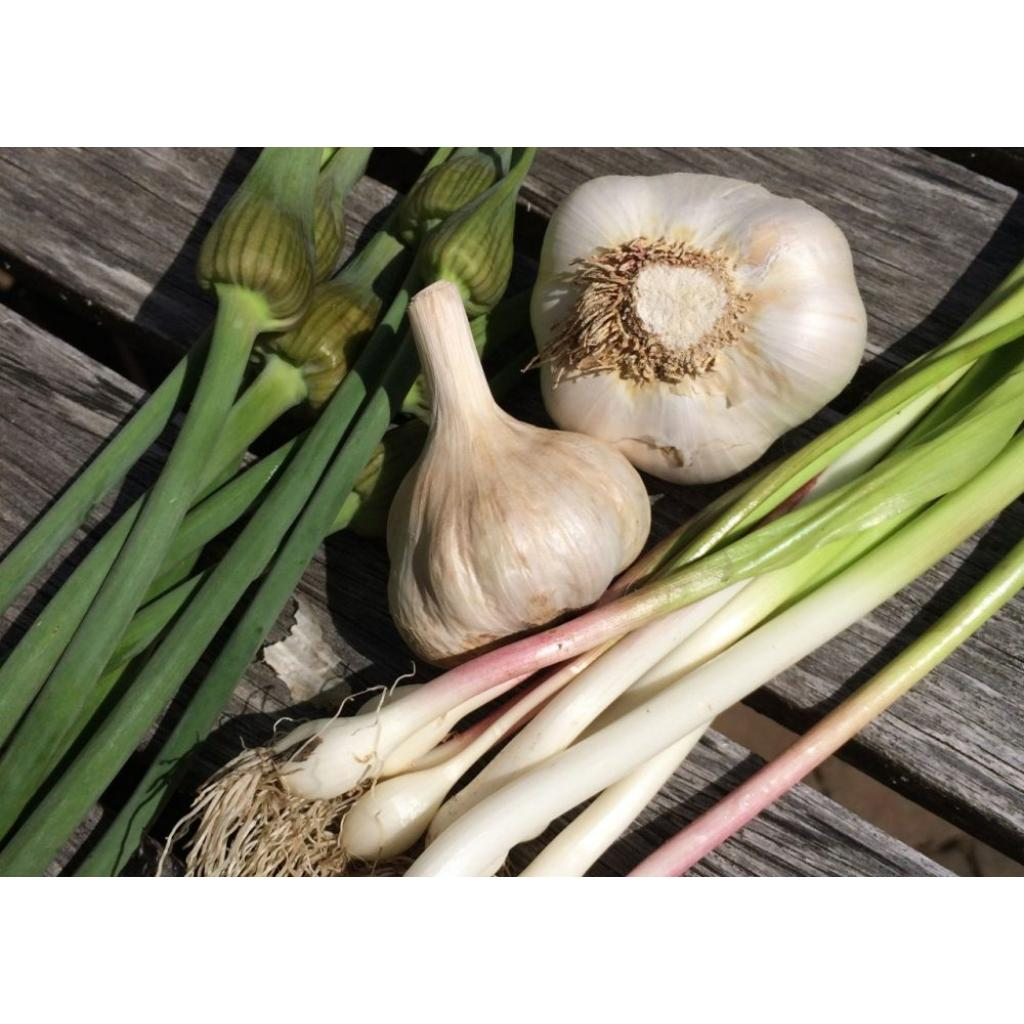garlic: (530, 173, 864, 482), (386, 280, 648, 660)
